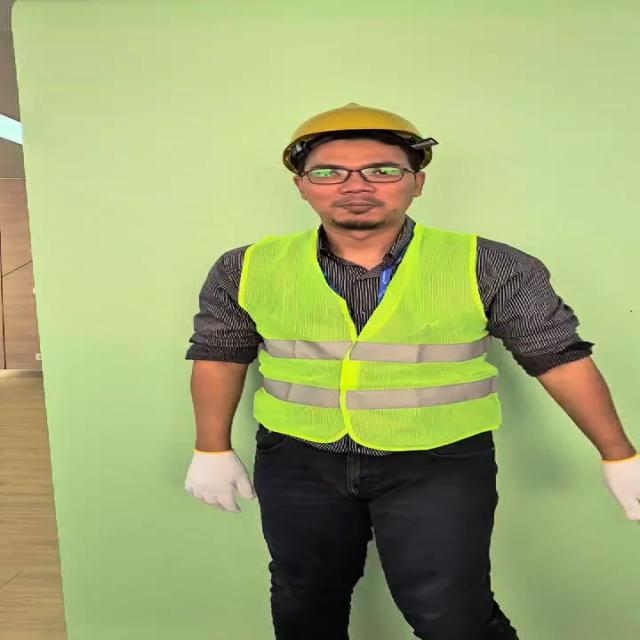gloves: (182, 447, 257, 514), (599, 450, 638, 519)
goggles: (296, 159, 422, 185)
safety_vest: (238, 230, 501, 451)
